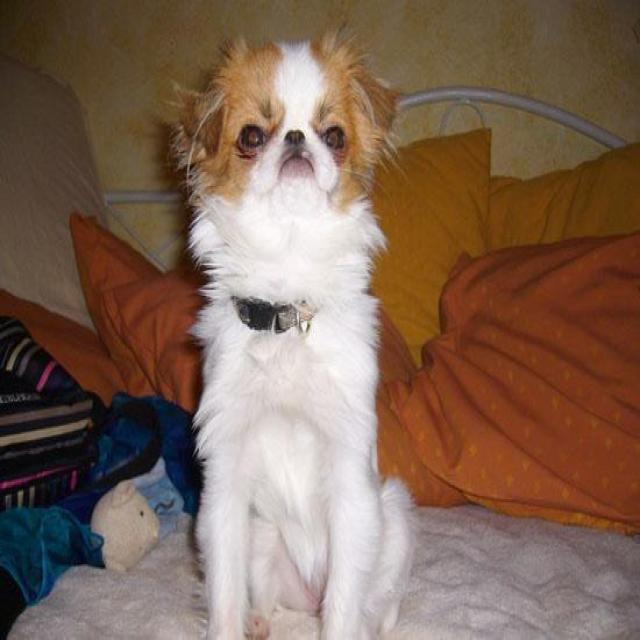husky: (165, 12, 420, 636)
